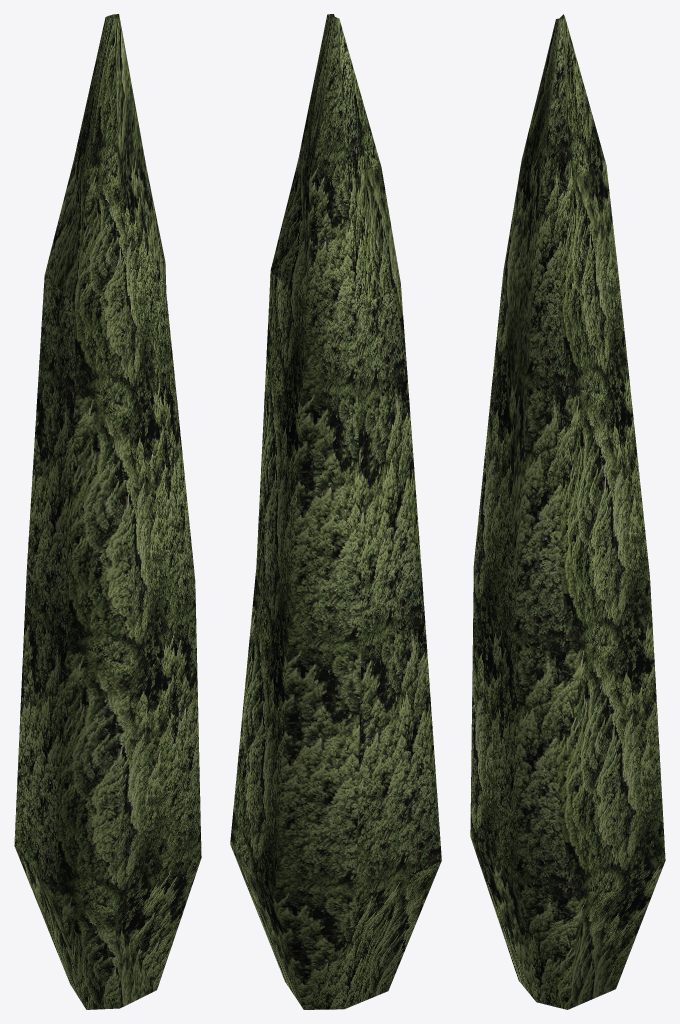
Rendered from Cyprus_Tree_02.FBX.
3 views of the same model, side by side, from view 1: azimuth 30°, elevation 25°; view 2: azimuth 150°, elevation 25°; view 3: azimuth 270°, elevation 25° (orthographic).
Visible parts, largest first — view 1: Cyprus_Tree_02; view 2: Cyprus_Tree_02; view 3: Cyprus_Tree_02.
Part boxes in pixels (<box>): Cyprus_Tree_02: <box>14,14,201,1009</box>; Cyprus_Tree_02: <box>230,14,441,1009</box>; Cyprus_Tree_02: <box>470,14,665,1009</box>.
Size of the model in its own units: 1.58 by 8.33 by 1.52.
